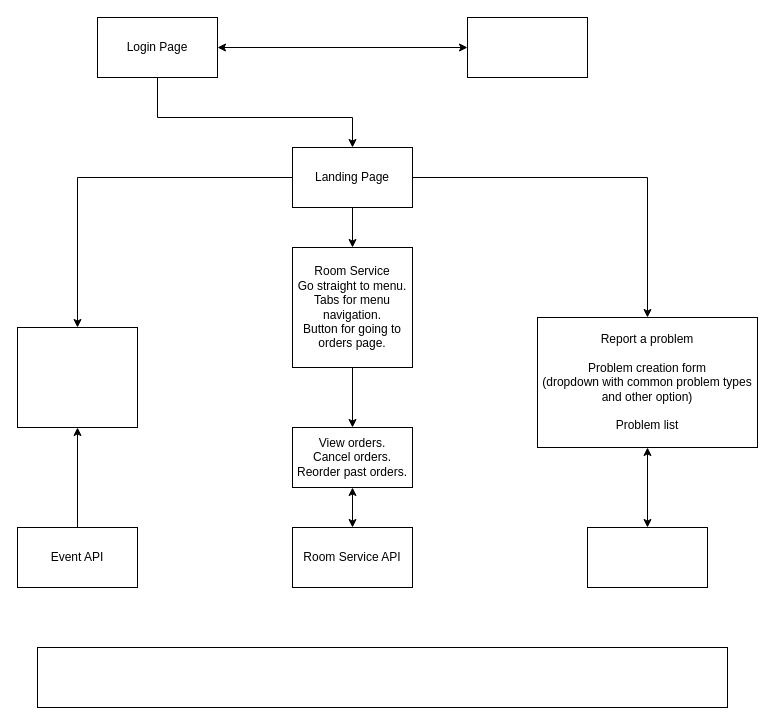
The diagram is 775 pixels wide and 725 high, and some of its shapes have lost their labels. Each missing label, with the box of its shape:
Event Viewer Default page Events expand to details when clicked.: (16, 326, 138, 428)
Events Order Room Service Problems: (36, 646, 728, 708)
Problem API: (586, 526, 708, 588)
Reservation API: (466, 16, 588, 78)
